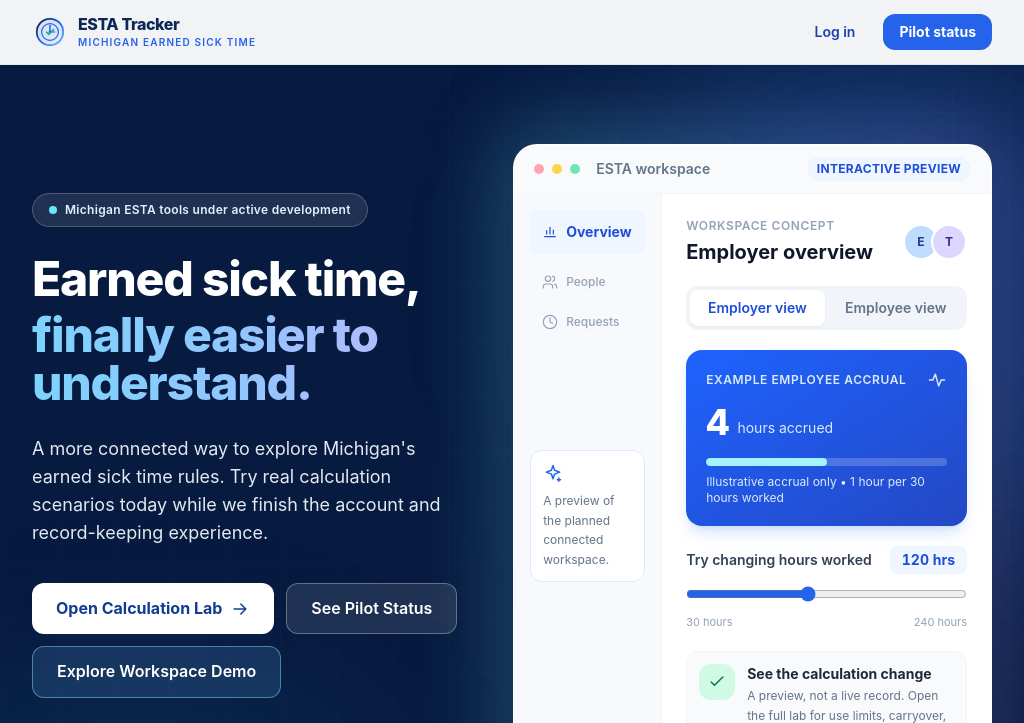
Test: Landing Page › switches the interactive preview between employer and employee
Click the button "Employee view". click: (896, 308)
box: [829, 290, 963, 326]
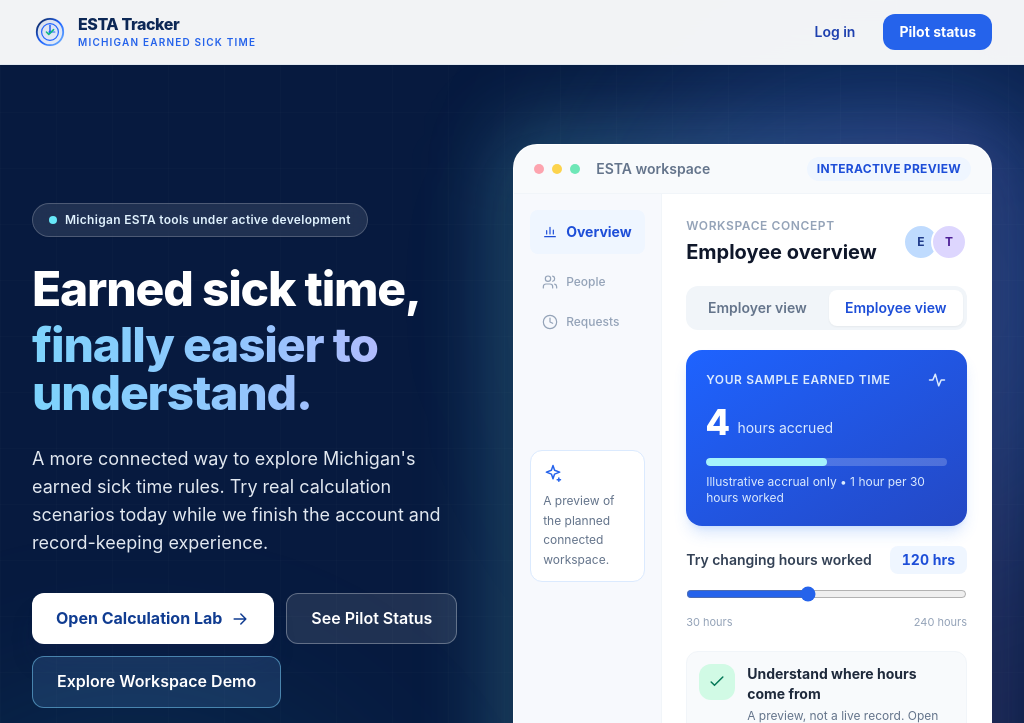
expect the heading "Employee overview" is shown: met, box [686, 238, 877, 266]
expect the text "Your sample earned time" is shown: met, box [706, 372, 891, 388]
